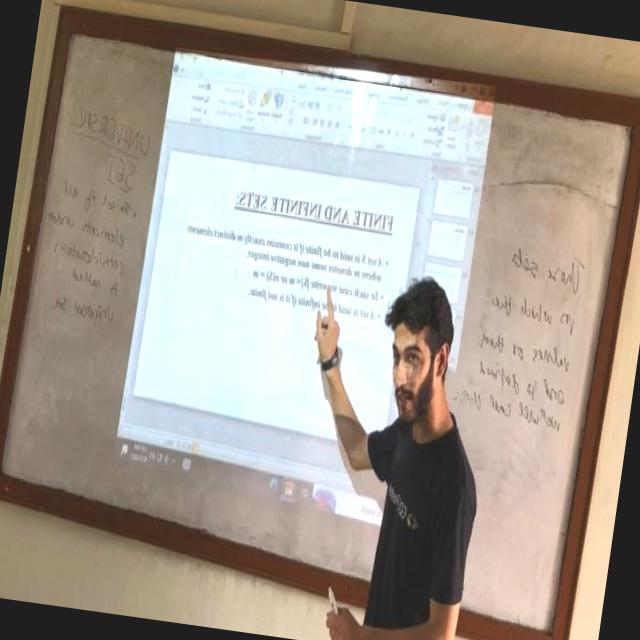Instructor: (333, 280, 499, 640)
Slide: (113, 48, 494, 558)
White-board: (0, 14, 640, 640)
